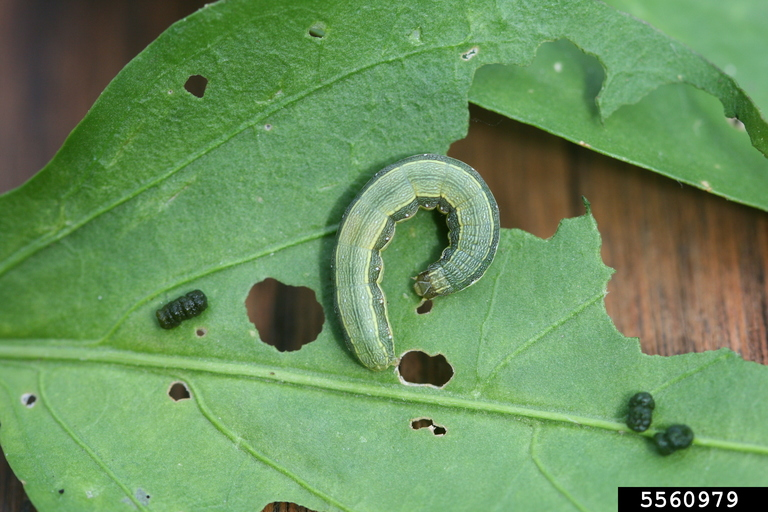Armyworm: (321, 137, 508, 377)
